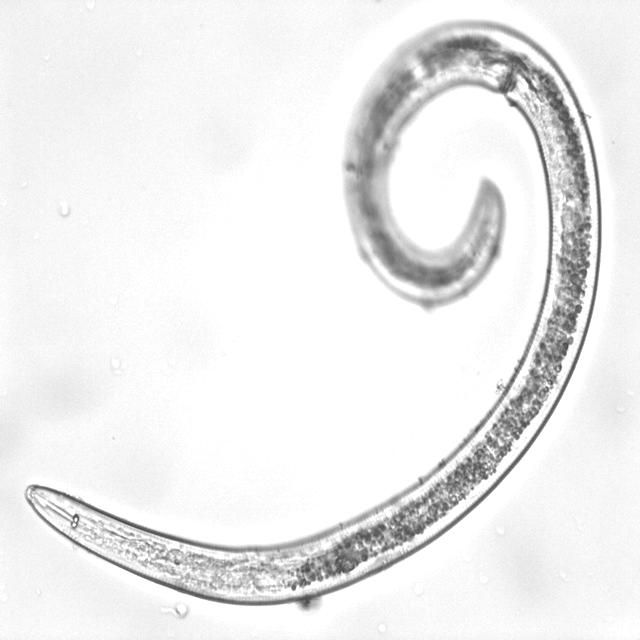Helicotylenchus: (24, 20, 602, 605)
